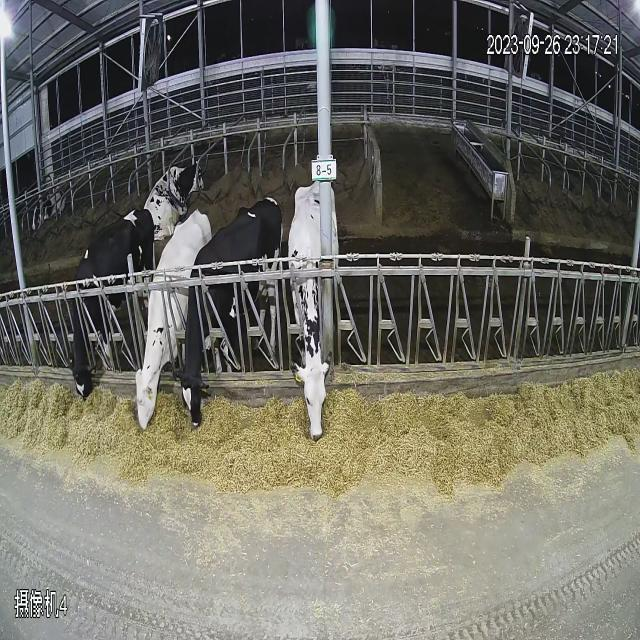feeding: (184, 193, 278, 460), (288, 169, 356, 470), (130, 204, 183, 464), (62, 206, 121, 422)
lying down: (146, 138, 216, 229), (28, 166, 74, 246)
